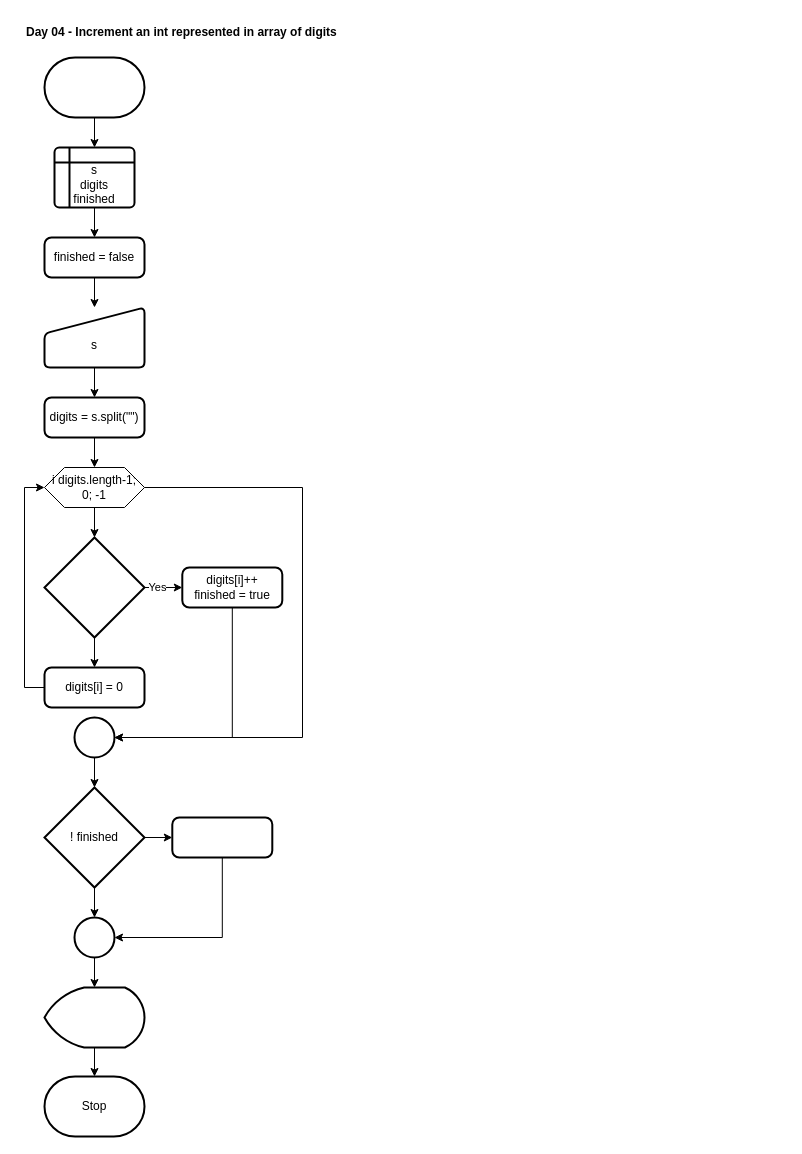
The diagram is 802 pixels wide and 1154 high, and some of its shapes have lost their labels. The shapes that lost their labels are listed below. From the top down, each one's box as (x1, y1, x2, y2) in pixels, then its label:
(43, 56, 145, 118): Start
(43, 536, 145, 638): digits[i] < 9
(171, 816, 273, 858): digits.unshift(1)
(43, 986, 145, 1048): digits
